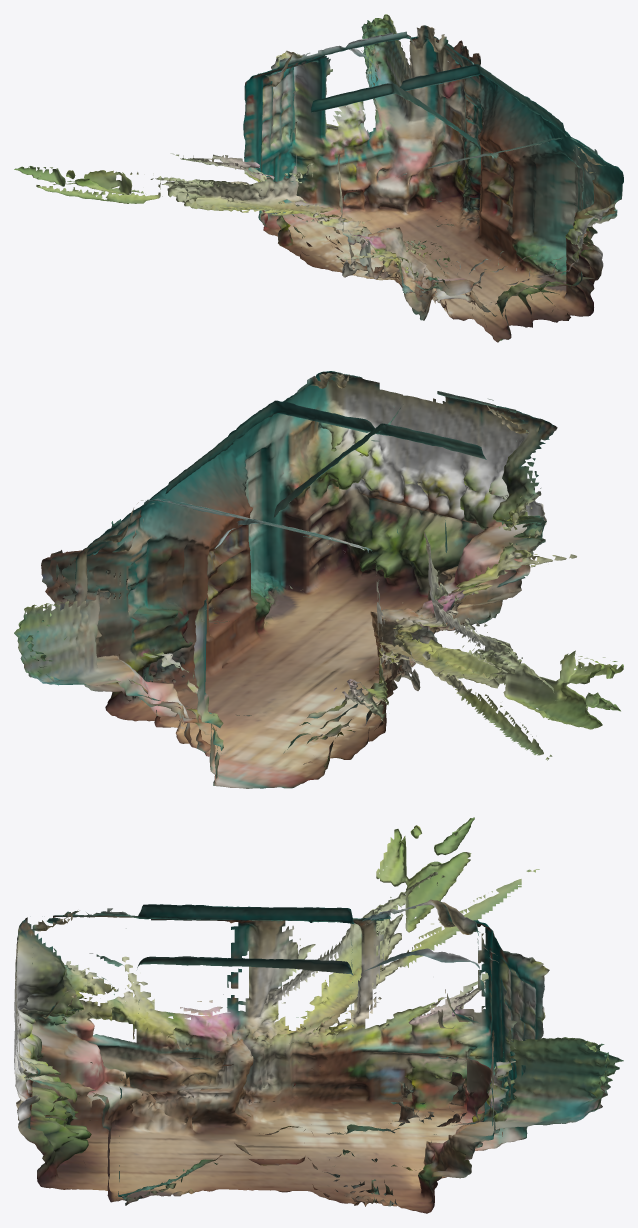
File: companion-day-collider.glb
The picture shows the model from 3 angles, top to bottom: view 1: azimuth 30°, elevation 25°; view 2: azimuth 150°, elevation 25°; view 3: azimuth 270°, elevation 25°; orthographic projection. The views are drawn at different scales.
Parts seen in each view (by area): view 1: world; view 2: world; view 3: world.
Boxes of the visible parts, box(x1,y1,x2,y2) form: world: box(14, 14, 623, 342); world: box(14, 371, 623, 788); world: box(14, 817, 623, 1213).
Bounding box in the file's own units: 9.46 × 3.54 × 8.94.
